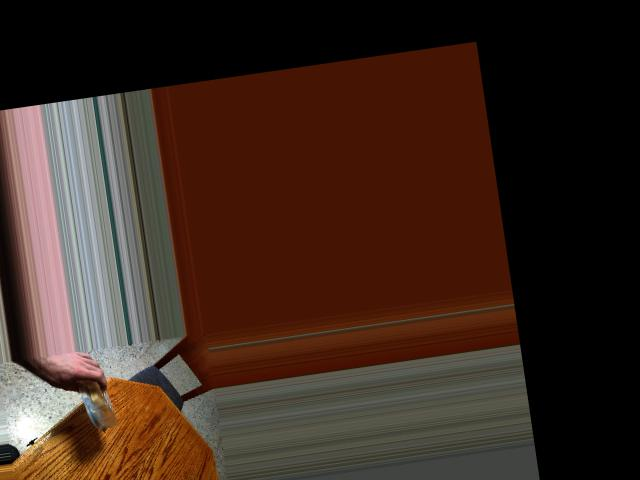cheese: (68, 376, 118, 428)
